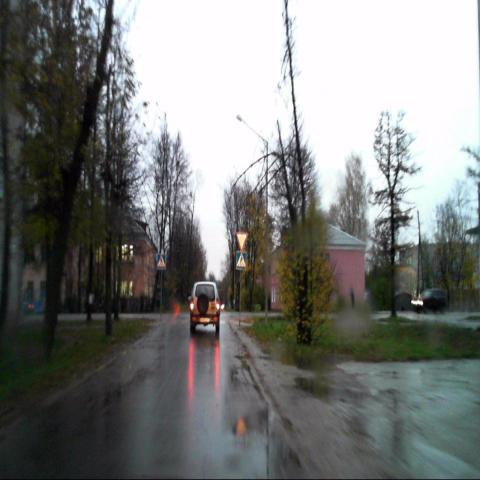2_4: (235, 231, 248, 251)
